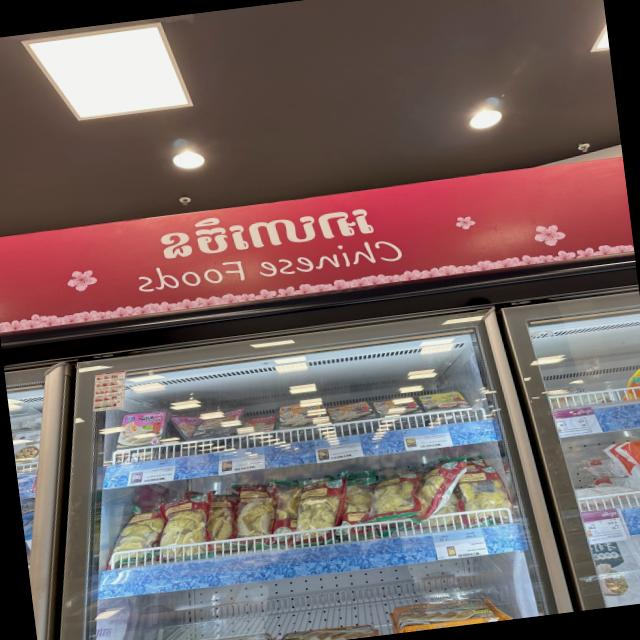Yolov11kh: (143, 198, 387, 271)
